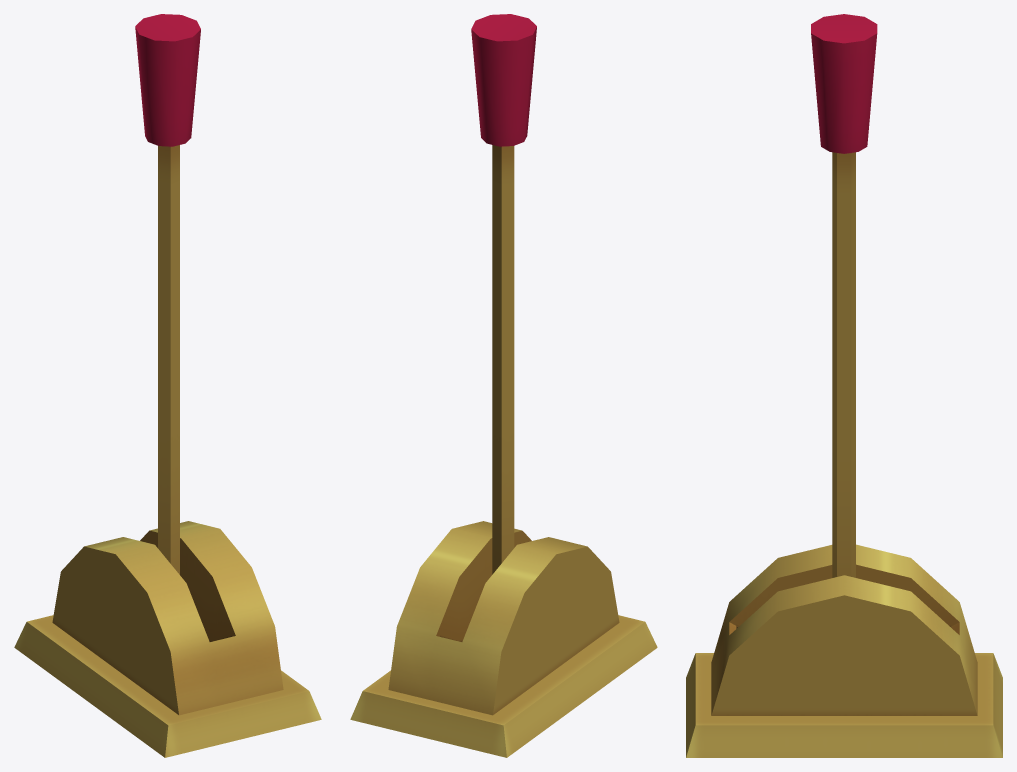
Rendered from LeverFloor01.FBX.
3 renders of one model, left to right at view 1: azimuth 30°, elevation 25°; view 2: azimuth 150°, elevation 25°; view 3: azimuth 270°, elevation 25°, orthographic. The views are drawn at different scales.
Parts seen in each view (by area): view 1: Base, Lever; view 2: Base, Lever; view 3: Base, Lever.
Boxes of the visible parts, <box> form: Base: <box>14,521,321,757</box>; Lever: <box>135,14,200,574</box>; Base: <box>350,521,657,757</box>; Lever: <box>471,14,536,574</box>; Base: <box>686,544,1002,757</box>; Lever: <box>811,14,877,577</box>.
Size of the model in its own units: 0.3 by 1.2 by 0.5.
